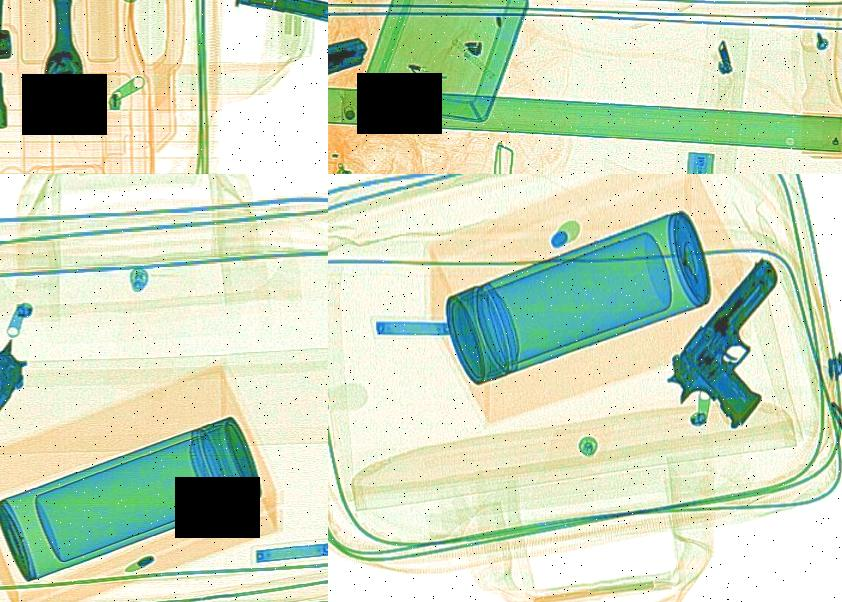Gun: (648, 252, 842, 430), (0, 309, 38, 472), (328, 21, 378, 133), (190, 0, 328, 28)
